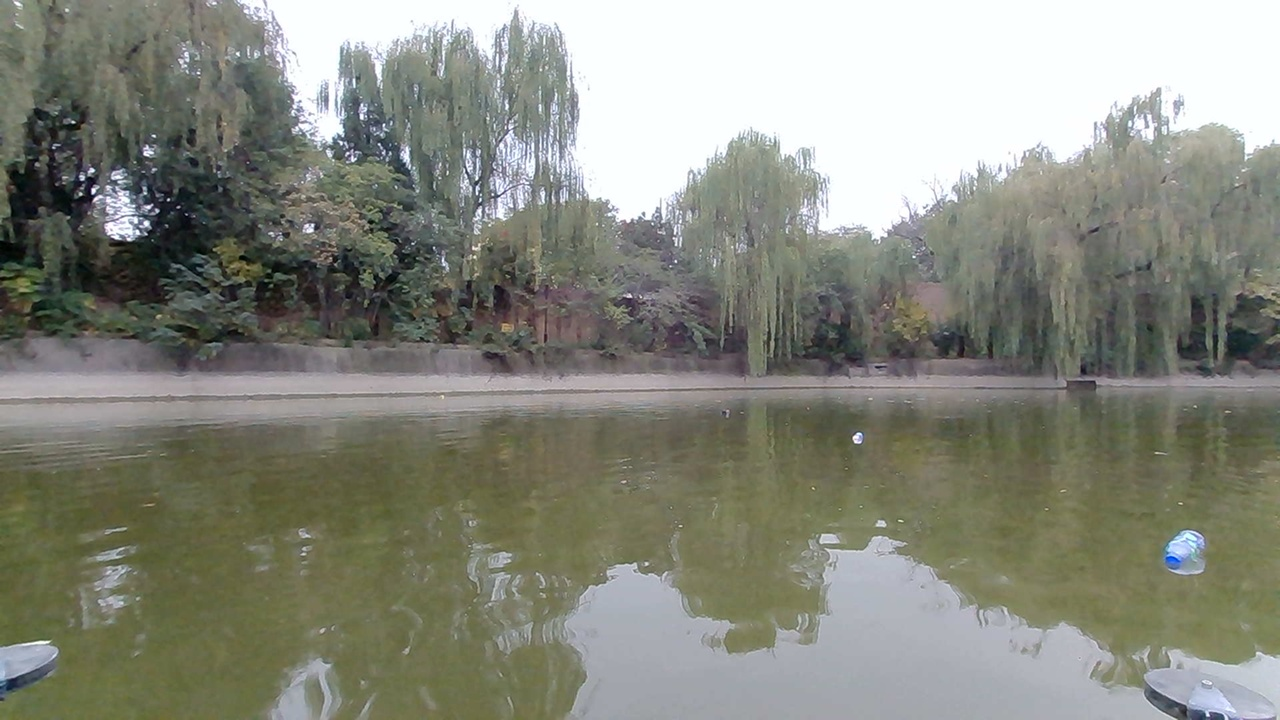bottle: (1155, 528, 1213, 578), (839, 423, 878, 452), (712, 399, 740, 425)
